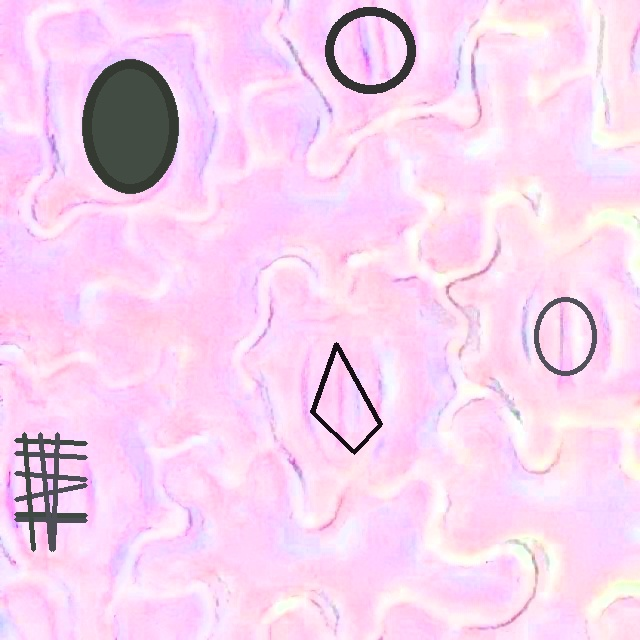open: (81, 60, 178, 193), (14, 432, 87, 551), (324, 6, 416, 93), (310, 343, 381, 454), (533, 296, 598, 377)
